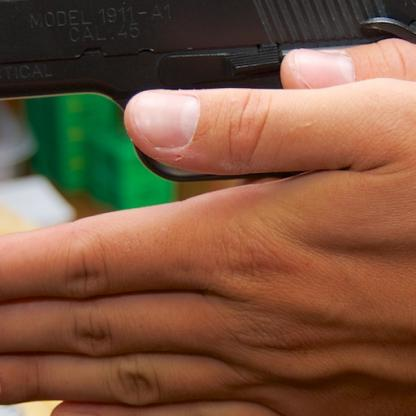gun: (0, 0, 416, 215)
